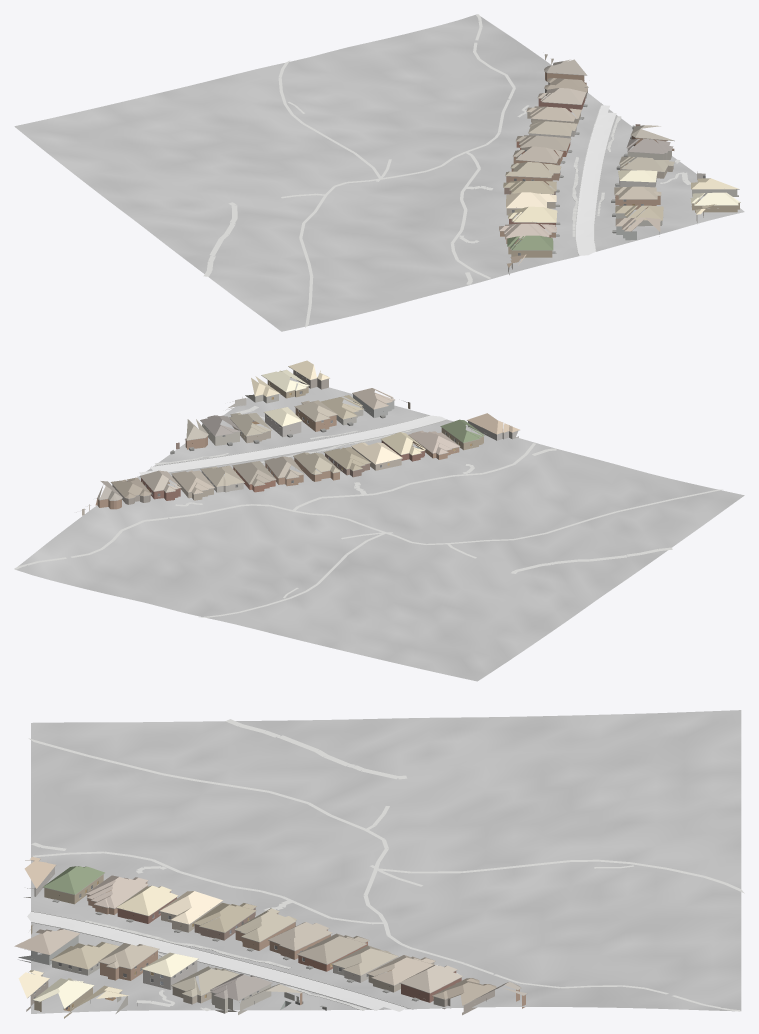
3 views of the same model, one above another, from view 1: azimuth 30°, elevation 25°; view 2: azimuth 150°, elevation 25°; view 3: azimuth 270°, elevation 25° (orthographic). The views are drawn at different scales.
Parts seen in each view (by area): view 1: ground, roof, walk, concrete, wall, wall_stucco, detail; view 2: ground, roof, walk, wall, concrete, wall_stucco, detail, curb, wall_stone; view 3: ground, roof, walk, wall, concrete, wall_stucco, detail, curb, wall_stone.
Part boxes in pixels (left/top/right/bottom): ground: left=14, top=14, right=744, bottom=331; roof: left=499, top=59, right=740, bottom=267; walk: left=203, top=14, right=690, bottom=327; concrete: left=576, top=105, right=616, bottom=255; wall: left=500, top=72, right=739, bottom=257; wall_stucco: left=506, top=54, right=738, bottom=240; detail: left=499, top=55, right=740, bottom=260; ground: left=14, top=378, right=744, bottom=681; roof: left=97, top=360, right=519, bottom=500; walk: left=14, top=406, right=722, bottom=617; wall: left=95, top=370, right=483, bottom=509; concrete: left=139, top=415, right=446, bottom=475; wall_stucco: left=82, top=394, right=401, bottom=515; detail: left=76, top=366, right=519, bottom=512; curb: left=137, top=415, right=446, bottom=476; wall_stone: left=265, top=413, right=518, bottom=440; ground: left=31, top=710, right=741, bottom=1013; roof: left=14, top=857, right=526, bottom=1008; walk: left=28, top=719, right=744, bottom=1011; wall: left=26, top=874, right=525, bottom=1018; concrete: left=27, top=912, right=406, bottom=1011; wall_stucco: left=18, top=902, right=396, bottom=1014; detail: left=24, top=859, right=527, bottom=1010; curb: left=31, top=911, right=413, bottom=1009; wall_stone: left=24, top=867, right=197, bottom=989.
Size of the model in its own units: 257 by 15.76 by 257.
